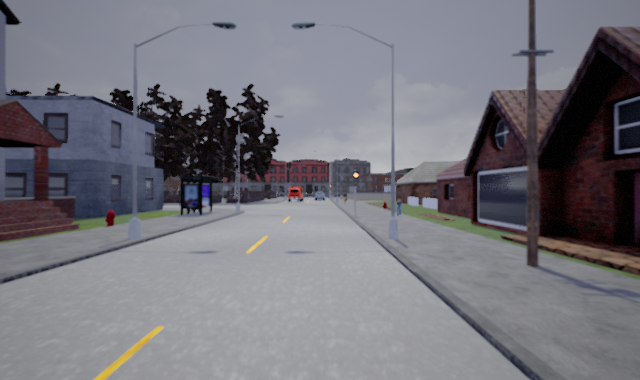pedestrian: (394, 197, 404, 217)
vehicle: (286, 186, 304, 203), (313, 191, 326, 200)
